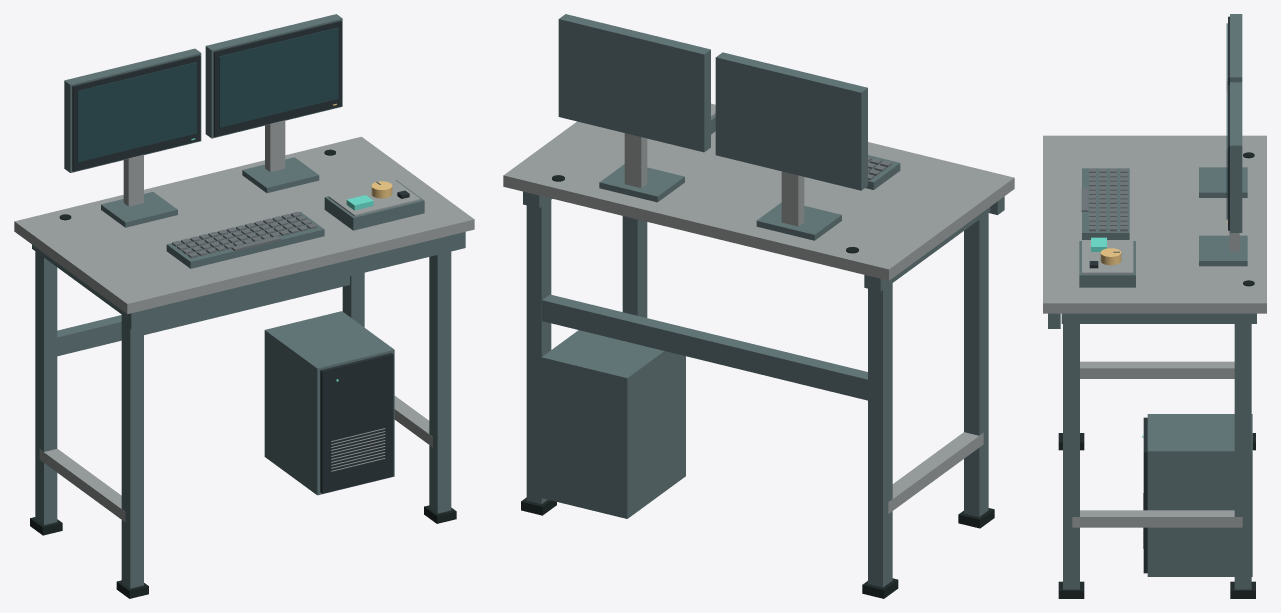
The model's file is analysis-console.glb.
The picture shows the model from 3 angles, left to right: view 1: azimuth 30°, elevation 25°; view 2: azimuth 150°, elevation 25°; view 3: azimuth 270°, elevation 25°; orthographic projection. The views are drawn at different scales.
Visible parts, largest first — view 1: ConsoleTop_1100x620, Workstation_CPU, CPU_face, Raster_screen, Waveform_screen, Upright_-487_231, Upright_487_231, Upright_-487_-244, Operator_apron, Rear_crossbrace, Waveform_bezel, Raster_bezel (+12 smaller); view 2: ConsoleTop_1100x620, Workstation_CPU, Raster_shell, Waveform_shell, Rear_crossbrace, Upright_-487_-244, Upright_-487_231, Upright_487_-244, Upright_487_231, Lower_side_brace_-487, Waveform_foot, Raster_foot (+3 smaller); view 3: ConsoleTop_1100x620, Workstation_CPU, Upright_487_-244, Upright_487_231, Lower_side_brace_487, Lower_side_brace_-487, Table_side_rail_487, Waveform_shell, Keyboard_frame, Waveform_foot, Controller_bezel, Raster_foot (+6 smaller).
Part boxes in pixels (x1,y1,x2,y2): ConsoleTop_1100x620: (14, 136, 474, 314); Workstation_CPU: (264, 311, 394, 495); CPU_face: (320, 353, 393, 493); Raster_screen: (77, 62, 196, 162); Waveform_screen: (219, 27, 338, 127); Upright_-487_231: (121, 315, 143, 588); Upright_487_231: (429, 251, 451, 513); Upright_-487_-244: (35, 251, 57, 525); Operator_apron: (125, 232, 465, 329); Rear_crossbrace: (57, 276, 349, 356); Waveform_bezel: (213, 20, 341, 136); Raster_bezel: (72, 55, 200, 171); ConsoleTop_1100x620: (503, 103, 1014, 280); Workstation_CPU: (541, 330, 685, 518); Raster_shell: (715, 52, 867, 190); Waveform_shell: (558, 14, 710, 152); Rear_crossbrace: (542, 294, 867, 400); Upright_-487_-244: (868, 283, 892, 587); Upright_-487_231: (964, 213, 988, 516); Upright_487_-244: (526, 200, 551, 504); Upright_487_231: (622, 216, 647, 317); Lower_side_brace_-487: (888, 432, 983, 513); Waveform_foot: (599, 164, 684, 202); Raster_foot: (756, 202, 841, 240); ConsoleTop_1100x620: (1043, 135, 1266, 313); Workstation_CPU: (1147, 414, 1252, 576); Upright_487_-244: (1234, 324, 1251, 589); Upright_487_231: (1063, 324, 1079, 589); Lower_side_brace_487: (1072, 510, 1242, 527); Lower_side_brace_-487: (1080, 361, 1234, 378); Table_side_rail_487: (1061, 313, 1256, 323); Waveform_shell: (1230, 82, 1242, 232); Keyboard_frame: (1082, 168, 1129, 239); Waveform_foot: (1199, 235, 1247, 266); Controller_bezel: (1082, 240, 1133, 273); Raster_foot: (1199, 167, 1247, 197).
Size of the model in its own units: 1.1 by 1.34 by 0.62.
